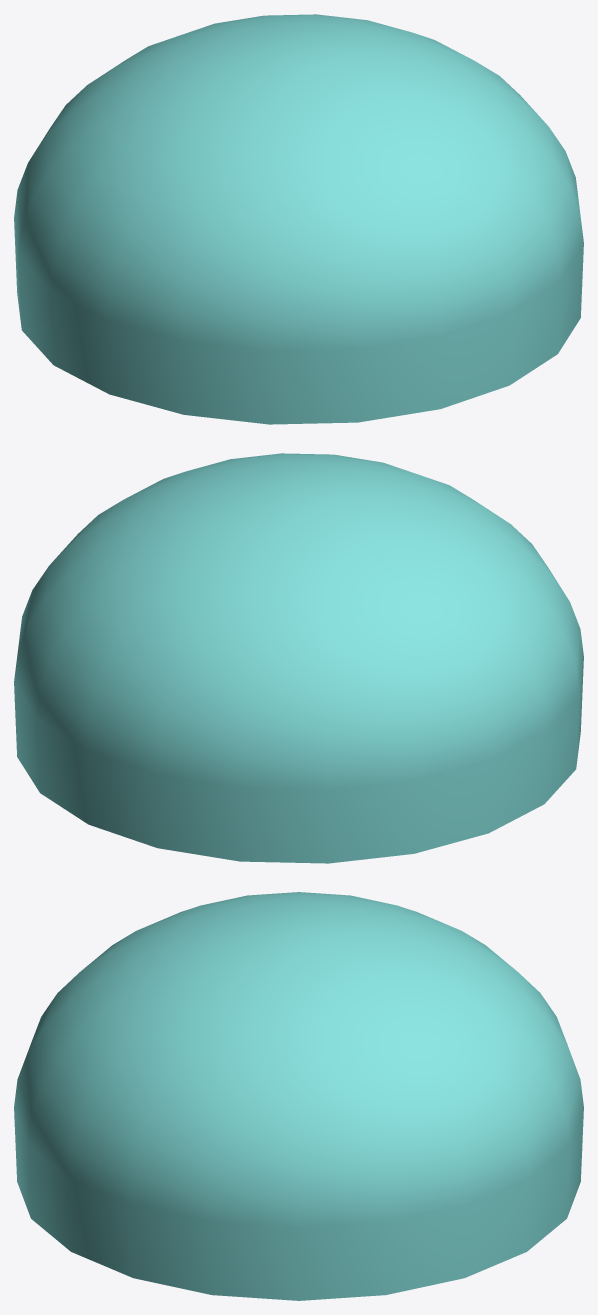
File: Transparente.obj
The picture shows the model from 3 angles, top to bottom: view 1: azimuth 30°, elevation 25°; view 2: azimuth 150°, elevation 25°; view 3: azimuth 270°, elevation 25°; orthographic projection.
Parts seen in each view (by area): view 1: pSphere15; view 2: pSphere15; view 3: pSphere15.
Part boxes in pixels (left/top/right/bottom): pSphere15: left=14, top=14, right=583, bottom=424; pSphere15: left=14, top=453, right=583, bottom=863; pSphere15: left=14, top=892, right=583, bottom=1300.
Size of the model in its own units: 22.4 by 10.97 by 22.4.
1 material, 1 textured.
